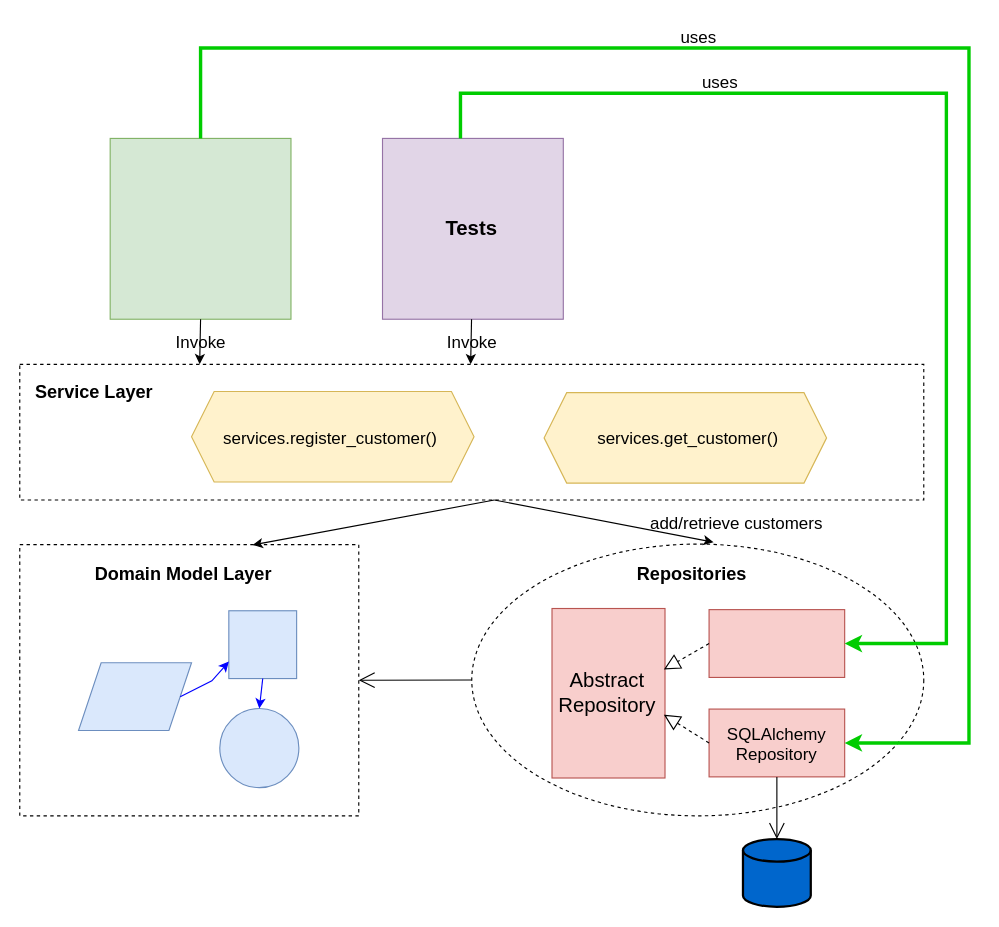
The diagram is 999 pixels wide and 927 high, and some of its shapes have lost their labels. Each missing label, with the centre of its shape:
DB: [776,872]
FakeRepository (in-memory): [776,643]
Grpc: [200,228]
